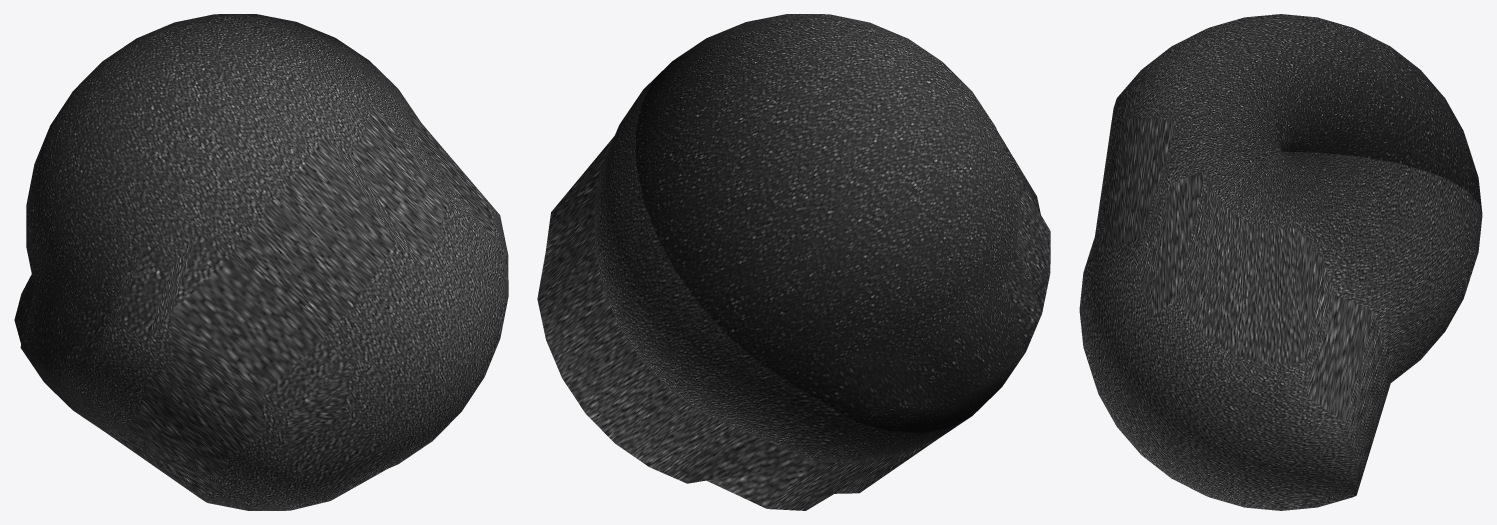
The model's file is meatballs4.FBX.
3 views of the same model, side by side, from view 1: azimuth 30°, elevation 25°; view 2: azimuth 150°, elevation 25°; view 3: azimuth 270°, elevation 25° (orthographic). The views are drawn at different scales.
Parts seen in each view (by area): view 1: Sphere005; view 2: Sphere005; view 3: Sphere005.
Boxes of the visible parts, x1,y1,x2,y2 form: Sphere005: [14, 14, 508, 510]; Sphere005: [537, 14, 1050, 510]; Sphere005: [1079, 14, 1482, 510].
Size of the model in its own units: 3.13 by 3.12 by 2.56.
Materials: 1 (1 with a texture image).
